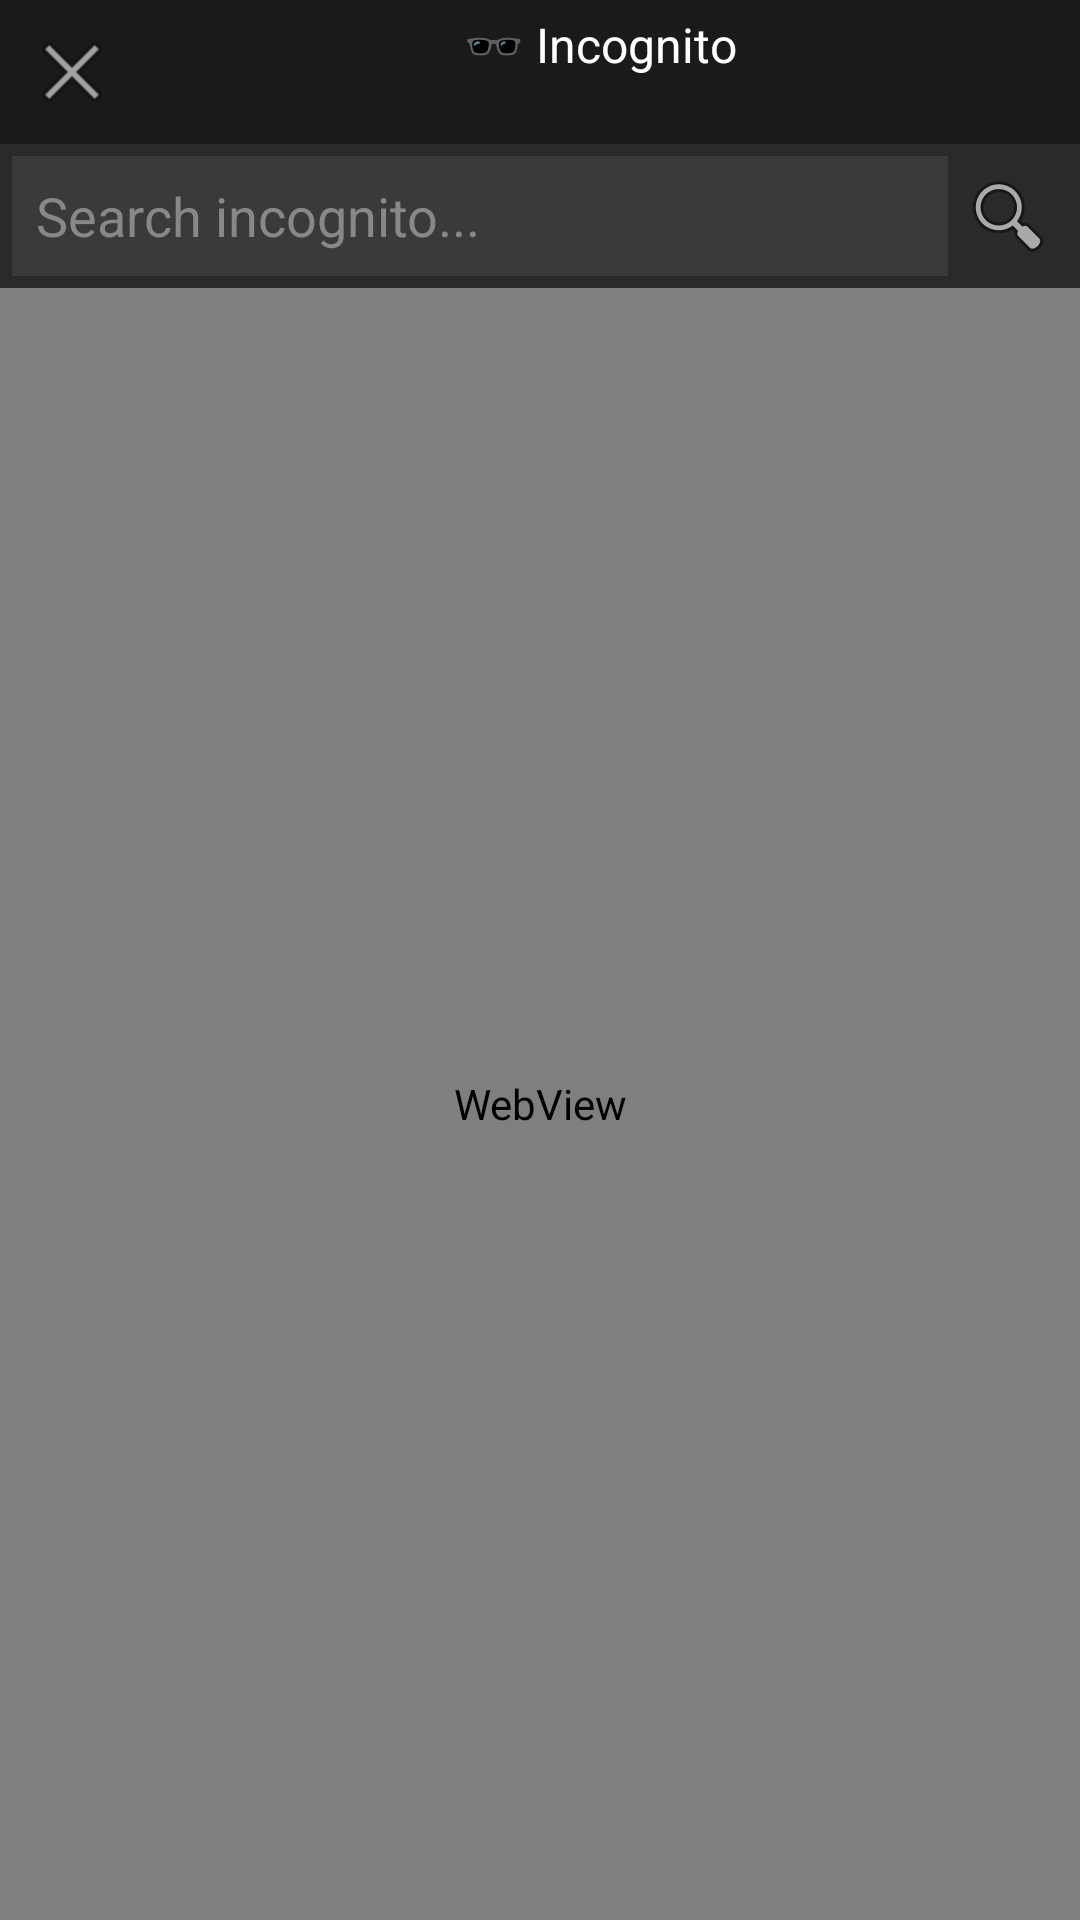

Screen size 1080 × 1920. Icon name, then its box in pixels as [x1,y1,x2,y2]:
close clear cancel: [45,45,99,99]
